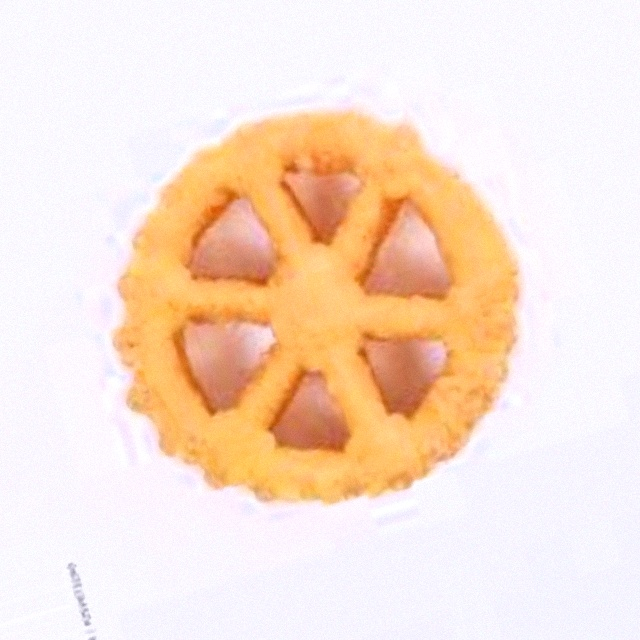Kokis: (76, 124, 564, 516)
